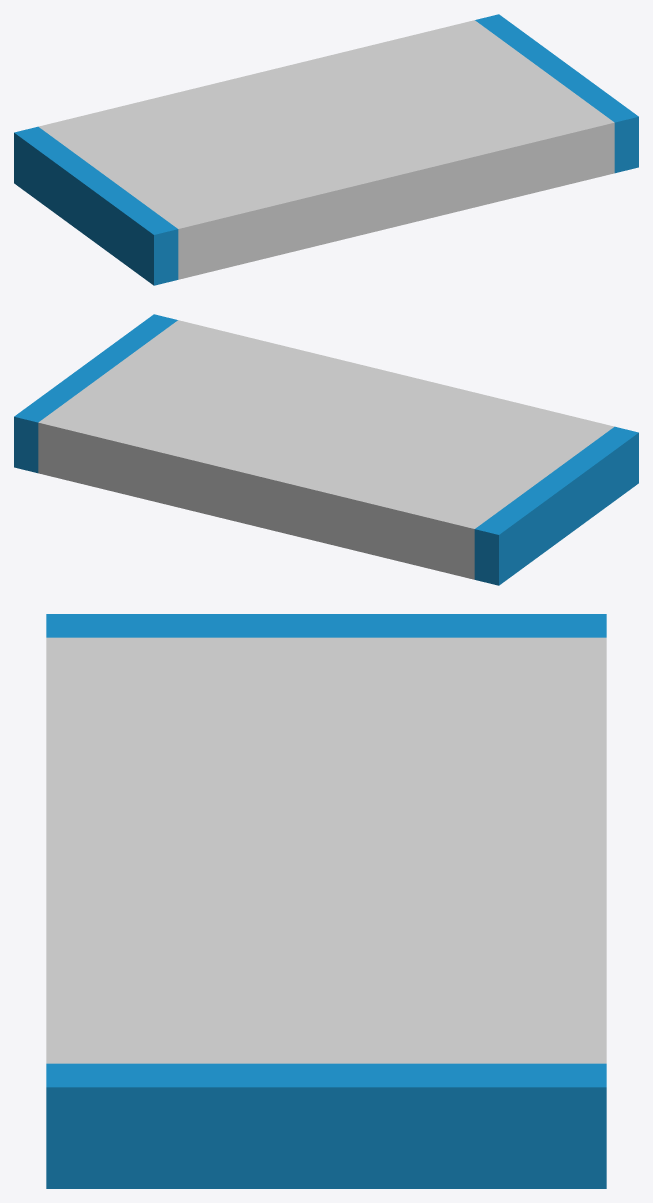
File: HalfWideDefault.fbx
3 renders of one model, top to bottom at view 1: azimuth 30°, elevation 25°; view 2: azimuth 150°, elevation 25°; view 3: azimuth 270°, elevation 25°, orthographic. The views are drawn at different scales.
Visible parts, largest first — view 1: Matrix_8; view 2: Matrix_8; view 3: Matrix_8.
Part boxes in pixels (box(x1,y1,x2,y2)): Matrix_8: box(14, 14, 638, 285); Matrix_8: box(14, 314, 638, 585); Matrix_8: box(46, 614, 606, 1188).
Size of the model in its own units: 20 by 2 by 10.
